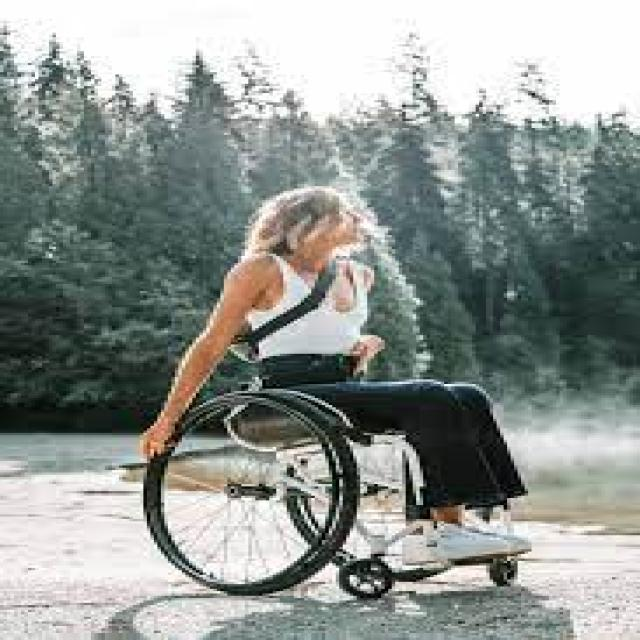wheelchairs: (112, 366, 552, 608)
